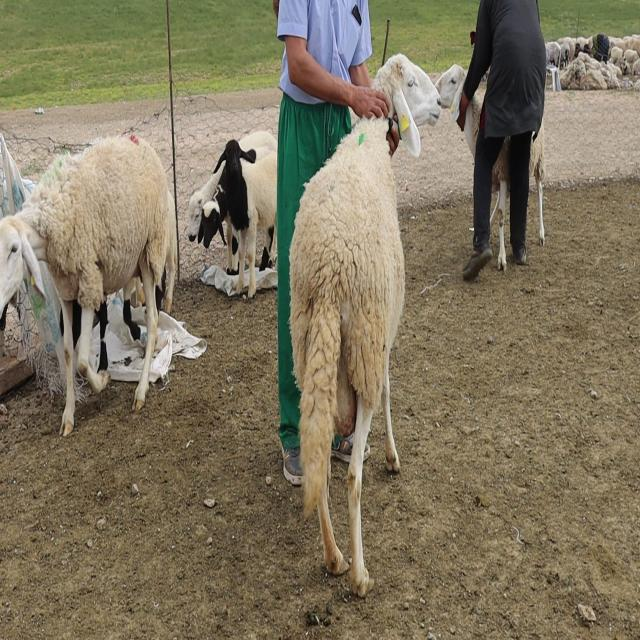Score_3: (289, 53, 441, 597)
